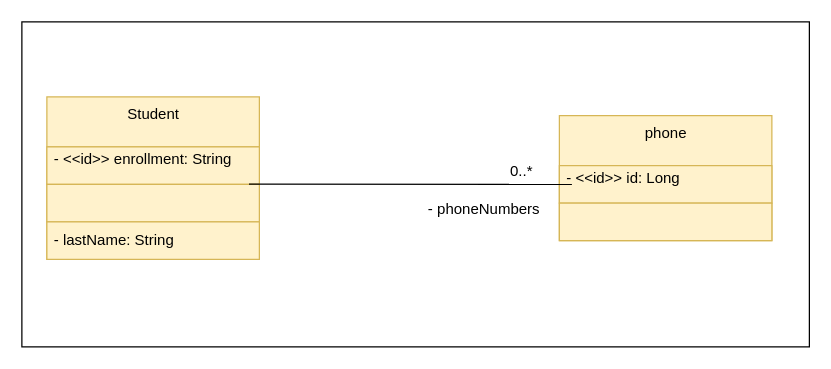
This 831x369 diagram has some shape labels left out. The centre of each missing label's shape, as x and y in pixels:
"- name: String" goes at (x=152, y=202).
"- phoneNumber: String" goes at (x=665, y=221).
